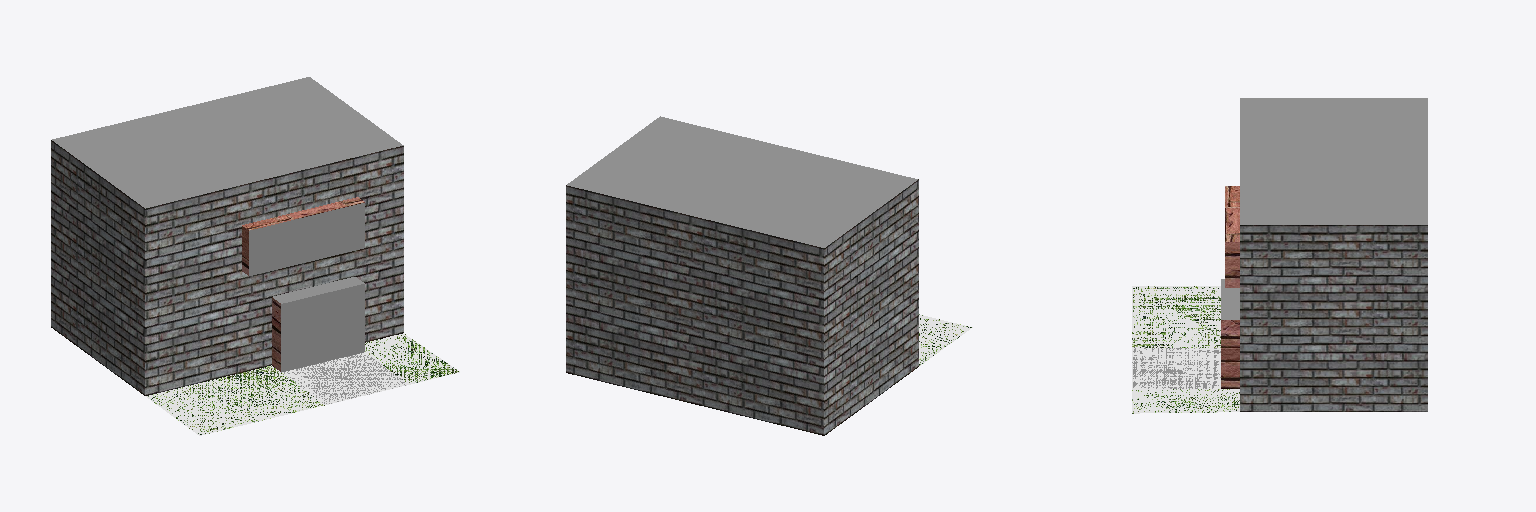
3 views of the same model, side by side, from view 1: azimuth 30°, elevation 25°; view 2: azimuth 150°, elevation 25°; view 3: azimuth 270°, elevation 25° (orthographic).
Parts seen in each view (by area): view 1: SketchUp.002_ID29, SketchUp.001_ID16, SketchUp.009_ID110, SketchUp.003_ID42, SketchUp.007_ID89, SketchUp.010_ID125, SketchUp.011_ID138, SketchUp.008_ID102, SketchUp.005_ID68, SketchUp.006_ID81; view 2: SketchUp.002_ID29, SketchUp.001_ID16, SketchUp.009_ID110; view 3: SketchUp.002_ID29, SketchUp.001_ID16, SketchUp.009_ID110, SketchUp.010_ID125, SketchUp.011_ID138, SketchUp.008_ID102, SketchUp.004_ID55, SketchUp.005_ID68.
Boxes of the visible parts, <box> form: SketchUp.002_ID29: <box>51,140,403,395</box>; SketchUp.001_ID16: <box>52,77,403,208</box>; SketchUp.009_ID110: <box>146,365,324,435</box>; SketchUp.003_ID42: <box>281,284,364,372</box>; SketchUp.007_ID89: <box>249,203,364,275</box>; SketchUp.010_ID125: <box>282,352,408,404</box>; SketchUp.011_ID138: <box>365,333,459,384</box>; SketchUp.008_ID102: <box>242,197,364,275</box>; SketchUp.005_ID68: <box>273,277,364,303</box>; SketchUp.006_ID81: <box>272,297,280,371</box>; SketchUp.002_ID29: <box>566,179,918,435</box>; SketchUp.001_ID16: <box>567,116,917,247</box>; SketchUp.009_ID110: <box>919,314,972,365</box>; SketchUp.002_ID29: <box>1240,225,1427,411</box>; SketchUp.001_ID16: <box>1240,98,1427,224</box>; SketchUp.009_ID110: <box>1132,286,1220,347</box>; SketchUp.010_ID125: <box>1132,348,1220,388</box>; SketchUp.011_ID138: <box>1132,389,1239,413</box>; SketchUp.008_ID102: <box>1225,186,1239,287</box>; SketchUp.004_ID55: <box>1221,320,1239,388</box>; SketchUp.005_ID68: <box>1221,279,1239,319</box>.
Bounding box in the file's own units: 1.84 × 1.26 × 1.81.
10 materials, 4 textured.